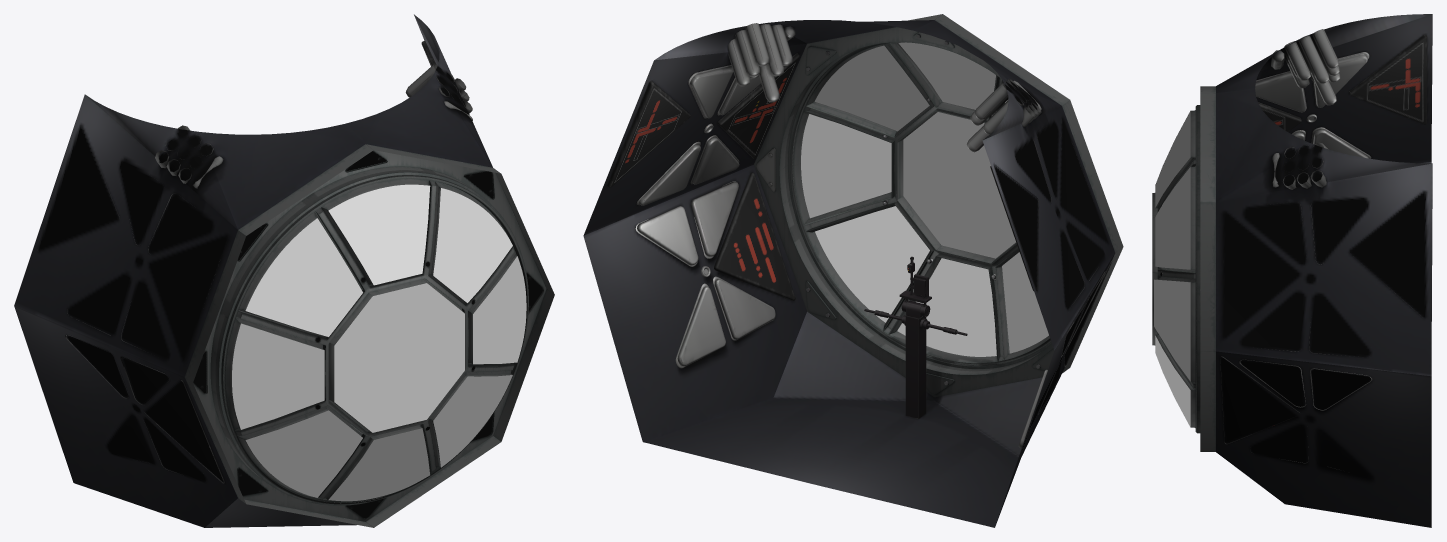
The model's file is TieFighterCockpit.fbx.
3 views of the same model, side by side, from view 1: azimuth 30°, elevation 25°; view 2: azimuth 150°, elevation 25°; view 3: azimuth 270°, elevation 25° (orthographic). The views are drawn at different scales.
Visible parts, largest first — view 1: detail.003, detail.001; view 2: detail.003, detail.001; view 3: detail.003, detail.001.
Boxes of the visible parts, box(x1,y1,x2,y2) form: detail.003: box(14, 14, 554, 527); detail.001: box(232, 184, 526, 501); detail.003: box(583, 14, 1123, 527); detail.001: box(801, 42, 1048, 356); detail.003: box(1152, 14, 1432, 527); detail.001: box(1154, 111, 1190, 427).
Bounding box in the file's own units: 207 × 163 × 114.
